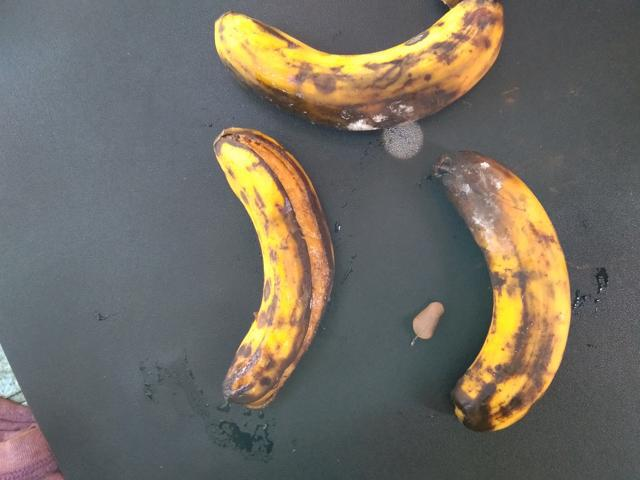rotten: (422, 127, 584, 443), (209, 118, 356, 445), (200, 0, 516, 130)
